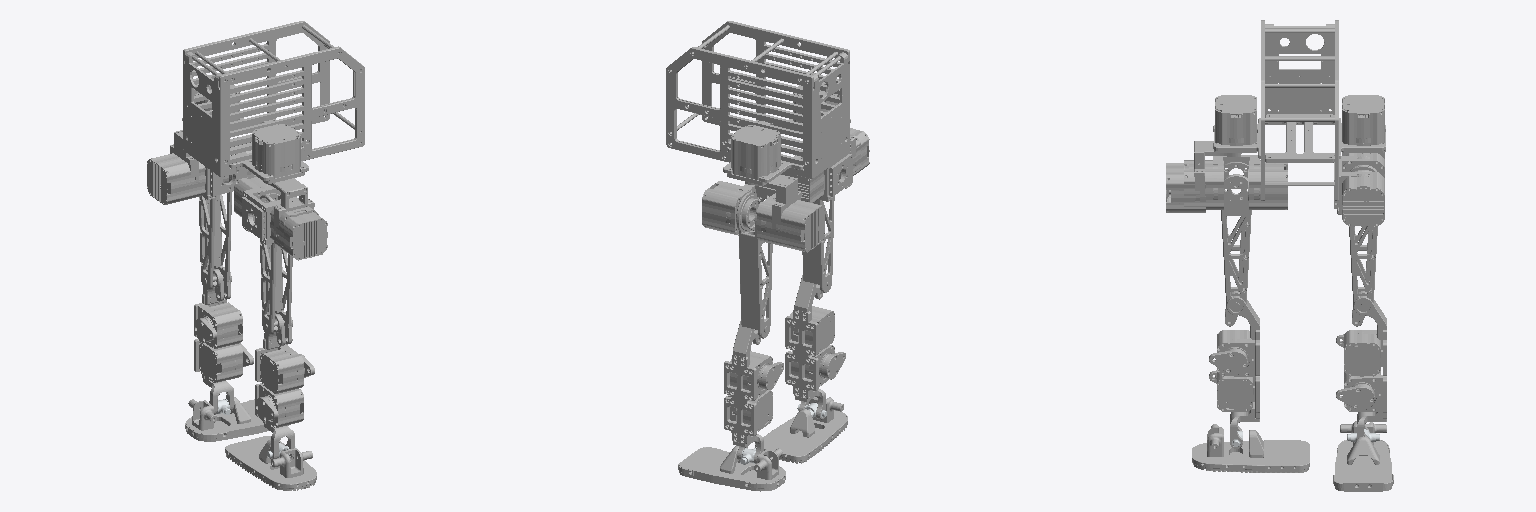
The robot description file, URDF, robot "pai_2_12_240723":
<?xml version="1.0" encoding="utf-8"?>
<!--
This URDF was automatically created by SolidWorks to URDF Exporter! Originally created by [author] ([email redacted])
Commit Version: 1.6.0-4-g7f85cfe  Build Version: 1.6.7995.38578
For more information, please see http://wiki.ros.org/sw_urdf_exporter
-->
<robot name="pai_2_12_240723">
	<link name="base_link">
		<inertial>
			<origin xyz="0.02264846 -0.00004298 0.03856462" rpy="0 0 0" />
			<mass value="1.767987723282303" />
			<inertia ixx="0.00715641" ixy="-0.00000351" ixz="-0.00040457" iyy="0.00754610" iyz="0.00000400" izz="0.00985603" />
		</inertial>
		<visual>
			<origin xyz="0 0 0" rpy="0 0 0" />
			<geometry>
				<mesh filename="package://pai_2_12_240723/meshes/base_link.STL" />
			</geometry>
			<material name="">
				<color rgba="0.752941176470588 0.752941176470588 0.752941176470588 1" />
			</material>
		</visual>
		<collision>
			<origin xyz="0 0 0" rpy="0 0 0" />
			<geometry>
				<mesh filename="package://pai_2_12_240723/meshes/base_link.STL" />
			</geometry>
		</collision>
	</link>
	<link name="r_hip_yaw_link">
		<inertial>
			<origin xyz="-0.05317432 -0.00007017 -0.05024259" rpy="0 0 0" />
			<mass value="0.40825297" />
			<inertia ixx="0.00024215" ixy="-0.00000027" ixz="-0.00006446" iyy="0.00026252" iyz="0.00000037" izz="0.00016997" />
		</inertial>
		<visual>
			<origin xyz="0 0 0" rpy="0 0 0" />
			<geometry>
				<mesh filename="package://pai_2_12_240723/meshes/r_hip_yaw_link.STL" />
			</geometry>
			<material name="">
				<color rgba="0.75294 0.75294 0.75294 1" />
			</material>
		</visual>
		<collision>
			<origin xyz="0 0 0" rpy="0 0 0" />
			<geometry>
				<mesh filename="package://pai_2_12_240723/meshes/r_hip_yaw_link.STL" />
			</geometry>
		</collision>
	</link>
	<joint name="r_hip_yaw_joint" type="revolute">
		<origin xyz="-0.003125 -0.075 -0.009" rpy="0 0 0" />
		<parent link="base_link" />
		<child link="r_hip_yaw_link" />
		<axis xyz="0 0 1" />
		<limit lower="-3.14" upper="3.14" effort="21" velocity="21" />
	</joint>
	<link name="r_hip_roll_link">
		<inertial>
			<origin xyz="-0.00165182 0.0 0.00009013" rpy="0 0 0" />
			<mass value="0.75405217" />
			<inertia ixx="0.00114977" ixy="0.0" ixz="0.00000182" iyy="0.00031770" iyz="0.00000238" izz="0.00117774" />
		</inertial>
		<visual>
			<origin xyz="0 0 0" rpy="0 0 0" />
			<geometry>
				<mesh filename="package://pai_2_12_240723/meshes/r_hip_roll_link.STL" />
			</geometry>
			<material name="">
				<color rgba="0.752941176470588 0.752941176470588 0.752941176470588 1" />
			</material>
		</visual>
		<collision>
			<origin xyz="0 0 0" rpy="0 0 0" />
			<geometry>
				<mesh filename="package://pai_2_12_240723/meshes/r_hip_roll_link.STL" />
			</geometry>
		</collision>
	</link>
	<joint name="r_hip_roll_joint" type="revolute">
		<origin xyz="0 0 -0.056" rpy="0 0 0" />
		<parent link="r_hip_yaw_link" />
		<child link="r_hip_roll_link" />
		<axis xyz="1 0 0" />
		<limit lower="-3.14" upper="3.14" effort="21" velocity="21" />
	</joint>
	<link name="r_thigh_link">
		<inertial>
			<origin xyz="0.00012218 -0.00135823 -0.06908333" rpy="0 0 0" />
			<mass value="0.21894101" />
			<inertia ixx="0.00076454" ixy="0.00000004" ixz="0.00000008" iyy="0.00077056" iyz="0.00002142" izz="0.00004054" />
		</inertial>
		<visual>
			<origin xyz="0 0 0" rpy="0 0 0" />
			<geometry>
				<mesh filename="package://pai_2_12_240723/meshes/r_thigh_link.STL" />
			</geometry>
			<material name="">
				<color rgba="0.752941176470588 0.752941176470588 0.752941176470588 1" />
			</material>
		</visual>
		<collision>
			<origin xyz="0 0 0" rpy="0 0 0" />
			<geometry>
				<mesh filename="package://pai_2_12_240723/meshes/r_thigh_link.STL" />
			</geometry>
		</collision>
	</link>
	<joint name="r_thigh_joint" type="revolute">
		<origin xyz="0 0 0" rpy="0 0 0" />
		<parent link="r_hip_roll_link" />
		<child link="r_thigh_link" />
		<axis xyz="0 -1 0" />
		<limit lower="-3.14" upper="3.14" effort="21" velocity="21" />
	</joint>
	<link name="r_calf_link">
		<inertial>
			<origin xyz="-0.00242534 0.00004312 -0.09732545" rpy="0 0 0" />
			<mass value="0.94531081" />
			<inertia ixx="0.00125228" ixy="0.00000083" ixz="-0.00009452" iyy="0.00124644" iyz="-0.00006385" izz="0.00023470" />
		</inertial>
		<visual>
			<origin xyz="0 0 0" rpy="0 0 0" />
			<geometry>
				<mesh filename="package://pai_2_12_240723/meshes/r_calf_link.STL" />
			</geometry>
			<material name="">
				<color rgba="0.752941176470588 0.752941176470588 0.752941176470588 1" />
			</material>
		</visual>
		<collision>
			<origin xyz="0 0 0" rpy="0 0 0" />
			<geometry>
				<mesh filename="package://pai_2_12_240723/meshes/r_calf_link.STL" />
			</geometry>
		</collision>
	</link>
	<joint name="r_calf_joint" type="revolute">
		<origin xyz="0.0075 0 -0.149812382665786" rpy="0 0 0" />
		<parent link="r_thigh_link" />
		<child link="r_calf_link" />
		<axis xyz="0 1 0" />
		<limit lower="-3.14" upper="3.14" effort="21" velocity="21" />
	</joint>
	<link name="r_ankle_pitch_link">
		<inertial>
			<origin xyz="-1.6509E-07 -3.5454E-07 1.0424E-08" rpy="0 0 0" />
			<mass value="0.01180204" />
			<inertia ixx="0.00000047" ixy="8.2515E-14" ixz="-8.8688E-13" iyy="0.00000111" iyz="1.3362E-12" izz="0.00000121" />
		</inertial>
		<visual>
			<origin xyz="0 0 0" rpy="0 0 0" />
			<geometry>
				<mesh filename="package://pai_2_12_240723/meshes/r_ankle_pitch_link.STL" />
			</geometry>
			<material name="">
				<color rgba="0.89804 0.91765 0.92941 1" />
			</material>
		</visual>
		<collision>
			<origin xyz="0 0 0" rpy="0 0 0" />
			<geometry>
				<mesh filename="package://pai_2_12_240723/meshes/r_ankle_pitch_link.STL" />
			</geometry>
		</collision>
	</link>
	<joint name="r_ankle_pitch_joint" type="revolute">
		<origin xyz="0 0 -0.17495" rpy="0 0 0" />
		<parent link="r_calf_link" />
		<child link="r_ankle_pitch_link" />
		<axis xyz="0 -1 0" />
		<limit lower="-3.14" upper="3.14" effort="21" velocity="21" />
	</joint>
	<link name="r_ankle_roll_link">
		<inertial>
			<origin xyz="0.01979902 0.00000141 -0.02023932" rpy="0 0 0" />
			<mass value="0.18592619" />
			<inertia ixx="0.00006786" ixy="0.00000000" ixz="0.00001824" iyy="0.00024654" iyz="0.00000000" izz="0.00028950" />
		</inertial>
		<visual>
			<origin xyz="0 0 0" rpy="0 0 0" />
			<geometry>
				<mesh filename="package://pai_2_12_240723/meshes/r_ankle_roll_link.STL" />
			</geometry>
			<material name="">
				<color rgba="0.752941176470588 0.752941176470588 0.752941176470588 1" />
			</material>
		</visual>
		<collision>
			<origin xyz="0 0 0" rpy="0 0 0" />
			<geometry>
				<mesh filename="package://pai_2_12_240723/meshes/r_ankle_roll_link.STL" />
			</geometry>
		</collision>
	</link>
	<joint name="r_ankle_roll_joint" type="revolute">
		<origin xyz="0 0 0" rpy="0 0 0" />
		<parent link="r_ankle_pitch_link" />
		<child link="r_ankle_roll_link" />
		<axis xyz="-1 0 0" />
		<limit lower="-3.14" upper="3.14" effort="21" velocity="21" />
	</joint>
	<link name="l_hip_yaw_link">
		<inertial>
			<origin xyz="-0.05317432 -0.00007017 -0.05024259" rpy="0 0 0" />
			<mass value="0.40825297" />
			<inertia ixx="0.00024215" ixy="-0.00000027" ixz="-0.00006446" iyy="0.00026252" iyz="0.00000037" izz="0.00016997" />
		</inertial>
		<visual>
			<origin xyz="0 0 0" rpy="0 0 0" />
			<geometry>
				<mesh filename="package://pai_2_12_240723/meshes/l_hip_yaw_link.STL" />
			</geometry>
			<material name="">
				<color rgba="0.75294 0.75294 0.75294 1" />
			</material>
		</visual>
		<collision>
			<origin xyz="0 0 0" rpy="0 0 0" />
			<geometry>
				<mesh filename="package://pai_2_12_240723/meshes/l_hip_yaw_link.STL" />
			</geometry>
		</collision>
	</link>
	<joint name="l_hip_yaw_joint" type="revolute">
		<origin xyz="-0.003125 0.075 -0.009" rpy="0 0 0" />
		<parent link="base_link" />
		<child link="l_hip_yaw_link" />
		<axis xyz="0 0 1" />
		<limit lower="-3.14" upper="3.14" effort="21" velocity="21" />
	</joint>
	<link name="l_hip_roll_link">
		<inertial>
			<origin xyz="-0.00165182 0.0 0.00009013" rpy="0 0 0" />
			<mass value="0.75405217" />
			<inertia ixx="0.00114977" ixy="0.0" ixz="0.00000182" iyy="0.00031770" iyz="0.00000238" izz="0.00117774" />
		</inertial>
		<visual>
			<origin xyz="0 0 0" rpy="0 0 0" />
			<geometry>
				<mesh filename="package://pai_2_12_240723/meshes/l_hip_roll_link.STL" />
			</geometry>
			<material name="">
				<color rgba="0.752941176470588 0.752941176470588 0.752941176470588 1" />
			</material>
		</visual>
		<collision>
			<origin xyz="0 0 0" rpy="0 0 0" />
			<geometry>
				<mesh filename="package://pai_2_12_240723/meshes/l_hip_roll_link.STL" />
			</geometry>
		</collision>
	</link>
	<joint name="l_hip_roll_joint" type="revolute">
		<origin xyz="0 0 -0.056" rpy="0 0 0" />
		<parent link="l_hip_yaw_link" />
		<child link="l_hip_roll_link" />
		<axis xyz="1 0 0" />
		<limit lower="-3.14" upper="3.14" effort="21" velocity="21" />
	</joint>
	<link name="l_thigh_link">
		<inertial>
			<origin xyz="0.00012218 -0.00135823 -0.06908333" rpy="0 0 0" />
			<mass value="0.21894101" />
			<inertia ixx="0.00076454" ixy="0.00000004" ixz="0.00000008" iyy="0.00077056" iyz="0.00002142" izz="0.00004054" />
		</inertial>
		<visual>
			<origin xyz="0 0 0" rpy="0 0 0" />
			<geometry>
				<mesh filename="package://pai_2_12_240723/meshes/l_thigh_link.STL" />
			</geometry>
			<material name="">
				<color rgba="0.752941176470588 0.752941176470588 0.752941176470588 1" />
			</material>
		</visual>
		<collision>
			<origin xyz="0 0 0" rpy="0 0 0" />
			<geometry>
				<mesh filename="package://pai_2_12_240723/meshes/l_thigh_link.STL" />
			</geometry>
		</collision>
	</link>
	<joint name="l_thigh_joint" type="revolute">
		<origin xyz="0 0 0" rpy="0 0 0" />
		<parent link="l_hip_roll_link" />
		<child link="l_thigh_link" />
		<axis xyz="0 -1 0" />
		<limit lower="-3.14" upper="3.14" effort="21" velocity="21" />
	</joint>
	<link name="l_calf_link">
		<inertial>
			<origin xyz="-0.00242534 0.00004312 -0.09732545" rpy="0 0 0" />
			<mass value="0.94531081" />
			<inertia ixx="0.00125228" ixy="0.00000083" ixz="-0.00009452" iyy="0.00124644" iyz="-0.00006385" izz="0.00023470" />
		</inertial>
		<visual>
			<origin xyz="0 0 0" rpy="0 0 0" />
			<geometry>
				<mesh filename="package://pai_2_12_240723/meshes/l_calf_link.STL" />
			</geometry>
			<material name="">
				<color rgba="0.75294 0.75294 0.75294 1" />
			</material>
		</visual>
		<collision>
			<origin xyz="0 0 0" rpy="0 0 0" />
			<geometry>
				<mesh filename="package://pai_2_12_240723/meshes/l_calf_link.STL" />
			</geometry>
		</collision>
	</link>
	<joint name="l_calf_joint" type="revolute">
		<origin xyz="0.0075 0 -0.149812382665786" rpy="0 0 0" />
		<parent link="l_thigh_link" />
		<child link="l_calf_link" />
		<axis xyz="0 1 0" />
		<limit lower="-3.14" upper="3.14" effort="21" velocity="21" />
	</joint>
	<link name="l_ankle_pitch_link">
		<inertial>
			<origin xyz="-1.6509E-07 -3.5454E-07 1.0424E-08" rpy="0 0 0" />
			<mass value="0.01180204" />
			<inertia ixx="0.00000047" ixy="8.2515E-14" ixz="-8.8688E-13" iyy="0.00000111" iyz="1.3362E-12" izz="0.00000121" />
		</inertial>
		<visual>
			<origin xyz="0 0 0" rpy="0 0 0" />
			<geometry>
				<mesh filename="package://pai_2_12_240723/meshes/l_ankle_pitch_link.STL" />
			</geometry>
			<material name="">
				<color rgba="0.898039215686275 0.917647058823529 0.929411764705882 1" />
			</material>
		</visual>
		<collision>
			<origin xyz="0 0 0" rpy="0 0 0" />
			<geometry>
				<mesh filename="package://pai_2_12_240723/meshes/l_ankle_pitch_link.STL" />
			</geometry>
		</collision>
	</link>
	<joint name="l_ankle_pitch_joint" type="revolute">
		<origin xyz="0 0 -0.17495" rpy="0 0 0" />
		<parent link="l_calf_link" />
		<child link="l_ankle_pitch_link" />
		<axis xyz="0 -1 0" />
		<limit lower="-3.14" upper="3.14" effort="21" velocity="21" />
	</joint>
	<link name="l_ankle_roll_link">
		<inertial>
			<origin xyz="0.01979902 0.00000141 -0.02023932" rpy="0 0 0" />
			<mass value="0.18592619" />
			<inertia ixx="0.00006786" ixy="0.00000000" ixz="0.00001824" iyy="0.00024654" iyz="0.00000000" izz="0.00028950" />
		</inertial>
		<visual>
			<origin xyz="0 0 0" rpy="0 0 0" />
			<geometry>
				<mesh filename="package://pai_2_12_240723/meshes/l_ankle_roll_link.STL" />
			</geometry>
			<material name="">
				<color rgba="0.752941176470588 0.752941176470588 0.752941176470588 1" />
			</material>
		</visual>
		<collision>
			<origin xyz="0 0 0" rpy="0 0 0" />
			<geometry>
				<mesh filename="package://pai_2_12_240723/meshes/l_ankle_roll_link.STL" />
			</geometry>
		</collision>
	</link>
	<joint name="l_ankle_roll_joint" type="revolute">
		<origin xyz="0 0 0" rpy="0 0 0" />
		<parent link="l_ankle_pitch_link" />
		<child link="l_ankle_roll_link" />
		<axis xyz="-1 0 0" />
		<limit lower="-3.14" upper="3.14" effort="21" velocity="21" />
	</joint>
</robot>

--- Render facts (derived) ---
3 views of the same robot in one strip: view 1: azimuth 30°, elevation 25°; view 2: azimuth 150°, elevation 25°; view 3: azimuth 270°, elevation 25° (orthographic).
Robot: pai_2_12_240723 — 13 links, 12 joints (12 revolute); root link base_link; default pose: every joint at zero.
Visible links, largest first — view 1: base_link, r_calf_link, l_calf_link, r_ankle_roll_link, r_hip_yaw_link, r_hip_roll_link, l_thigh_link, l_ankle_roll_link, r_thigh_link, l_hip_yaw_link, l_hip_roll_link; view 2: base_link, r_calf_link, l_calf_link, l_hip_roll_link, l_ankle_roll_link, l_thigh_link, r_ankle_roll_link, l_hip_yaw_link, r_hip_roll_link, r_thigh_link, r_hip_yaw_link; view 3: base_link, r_calf_link, l_calf_link, r_ankle_roll_link, r_hip_roll_link, l_hip_roll_link, l_ankle_roll_link, r_thigh_link, r_hip_yaw_link, l_thigh_link.
Link boxes in pixels (x1=…): base_link: x1=182, y1=21, x2=364, y2=183; r_calf_link: x1=255, y1=312, x2=314, y2=459; l_calf_link: x1=194, y1=267, x2=253, y2=414; r_ankle_roll_link: x1=225, y1=436, x2=316, y2=490; r_hip_yaw_link: x1=263, y1=178, x2=327, y2=260; r_hip_roll_link: x1=234, y1=175, x2=318, y2=246; l_thigh_link: x1=199, y1=155, x2=232, y2=290; l_ankle_roll_link: x1=185, y1=397, x2=288, y2=441; r_thigh_link: x1=260, y1=195, x2=292, y2=334; l_hip_yaw_link: x1=147, y1=130, x2=199, y2=204; l_hip_roll_link: x1=167, y1=134, x2=253, y2=201; base_link: x1=666, y1=21, x2=850, y2=185; r_calf_link: x1=785, y1=275, x2=845, y2=419; l_calf_link: x1=724, y1=321, x2=783, y2=463; l_hip_roll_link: x1=702, y1=181, x2=805, y2=246; l_ankle_roll_link: x1=678, y1=446, x2=785, y2=491; l_thigh_link: x1=736, y1=192, x2=772, y2=338; r_ankle_roll_link: x1=755, y1=397, x2=847, y2=463; l_hip_yaw_link: x1=745, y1=175, x2=824, y2=252; r_hip_roll_link: x1=781, y1=134, x2=860, y2=202; r_thigh_link: x1=802, y1=196, x2=834, y2=292; r_hip_yaw_link: x1=850, y1=128, x2=869, y2=175; base_link: x1=1213, y1=20, x2=1385, y2=200; r_calf_link: x1=1209, y1=291, x2=1259, y2=448; l_calf_link: x1=1336, y1=291, x2=1386, y2=438; r_ankle_roll_link: x1=1192, y1=424, x2=1309, y2=472; r_hip_roll_link: x1=1184, y1=155, x2=1287, y2=209; l_hip_roll_link: x1=1334, y1=153, x2=1384, y2=226; l_ankle_roll_link: x1=1333, y1=421, x2=1393, y2=491; r_thigh_link: x1=1221, y1=162, x2=1251, y2=311; r_hip_yaw_link: x1=1166, y1=141, x2=1241, y2=212; l_thigh_link: x1=1349, y1=166, x2=1377, y2=311.
Bounding box of the posed robot: 0.225 × 0.268 × 0.5417 m (x, y, z).
13 mesh visuals loaded from 13 distinct referenced files (13 binary STL).